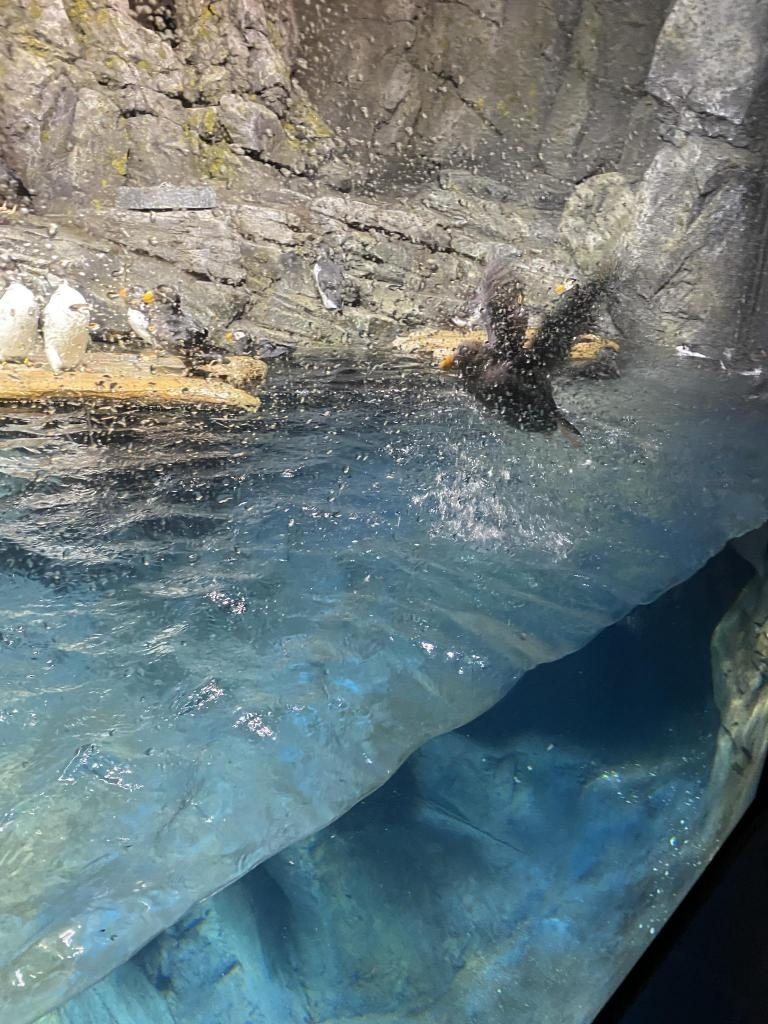puffin: (438, 274, 600, 444), (135, 286, 204, 388), (115, 278, 169, 360), (216, 322, 286, 378), (308, 251, 354, 313)
